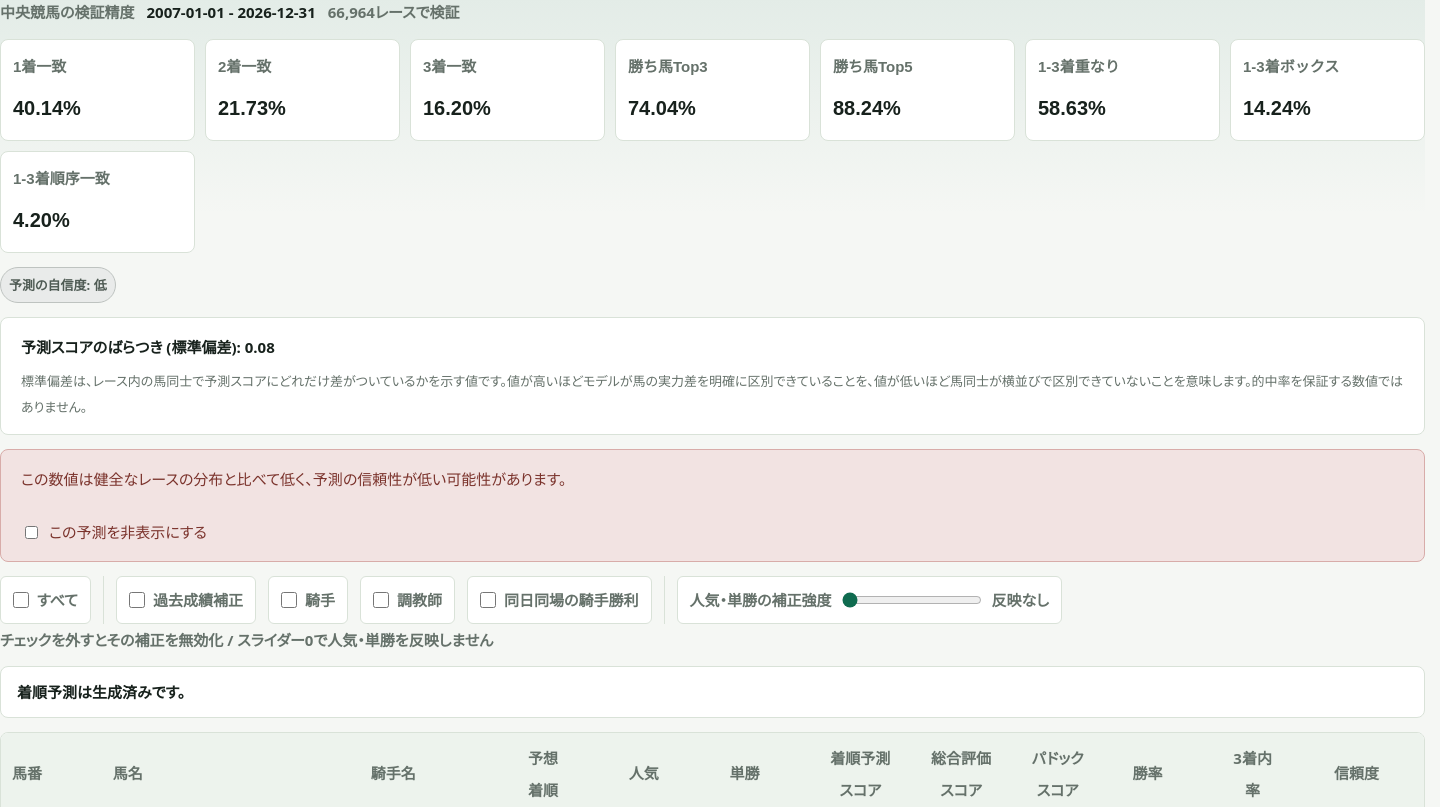
FinishPositionPredictionTable shows the ranked table again once the user unchecks the hide toggle
What coordinates should you click on to do the following:
click the checkbox labelled "この予測を非表示にする"
I would click on:
 (32, 532)
Its box is [25,526,38,538].
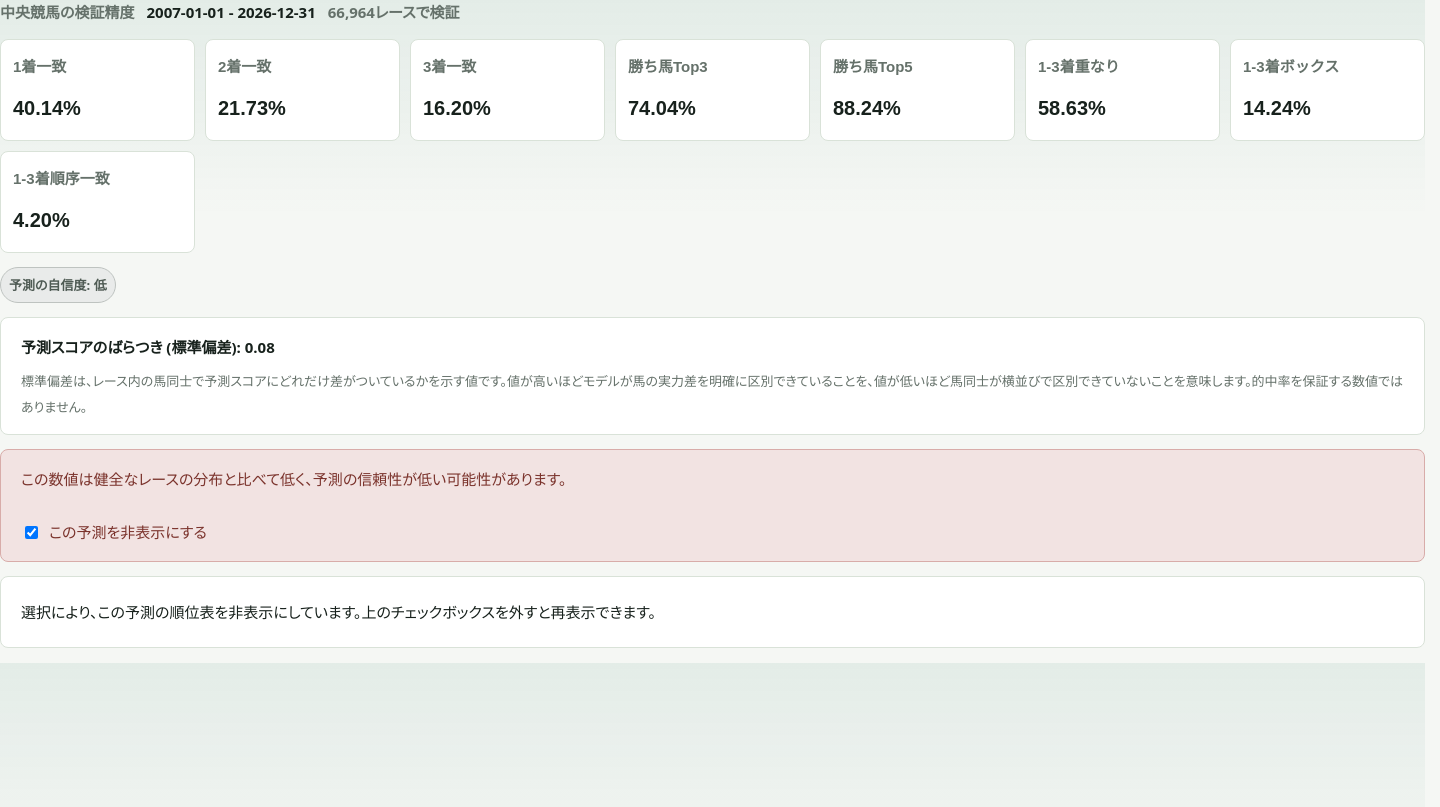
What coordinates should you click on to do the following:
click the checkbox labelled "この予測を非表示にする"
I would click on:
 (32, 532)
Its box is [25,526,38,538].
(page scrolled)
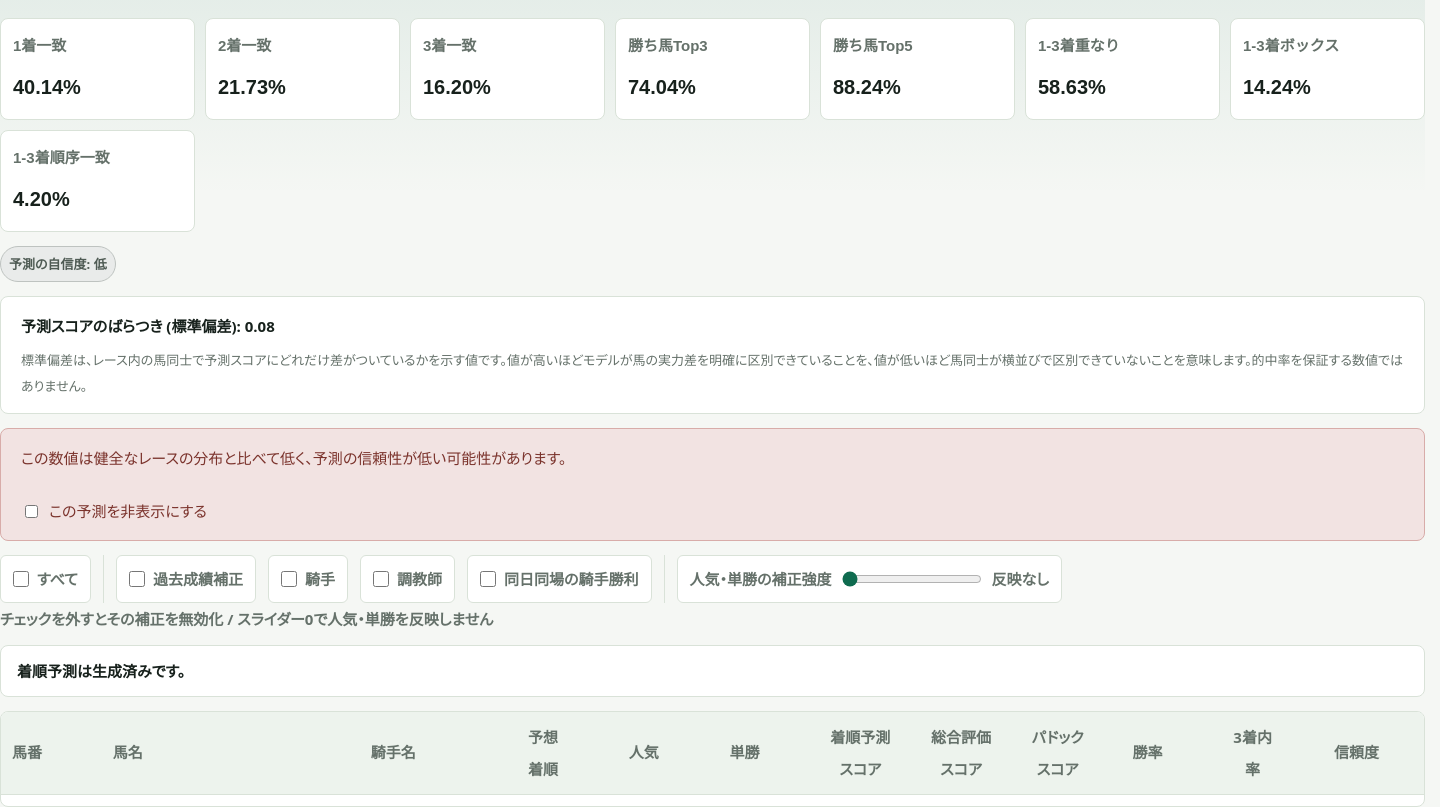
Now the text with class "finish-prediction-hidden-by-user-message" is gone
Now the table with class "finish-prediction-table" is shown, box [1,712,1424,795]
